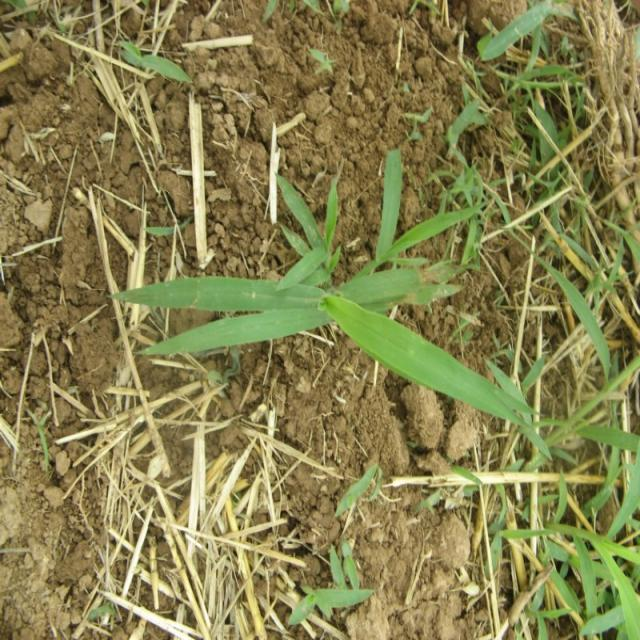bg: (114, 207, 527, 433)
